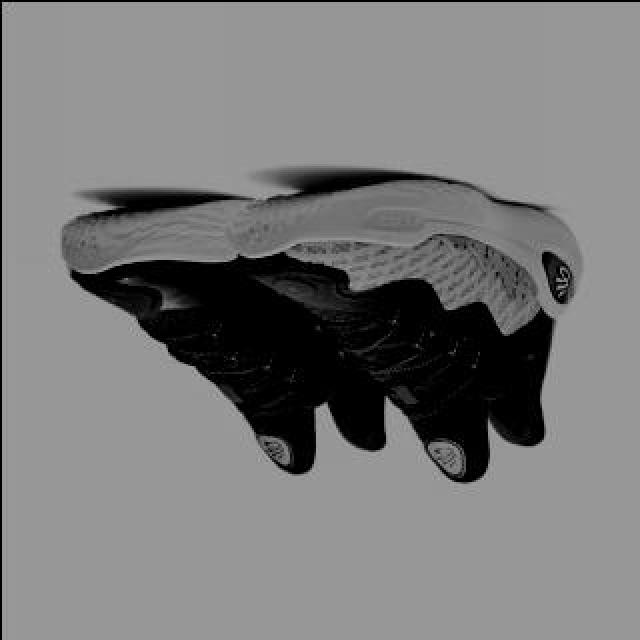shoe: (236, 178, 580, 484), (58, 197, 418, 475)
